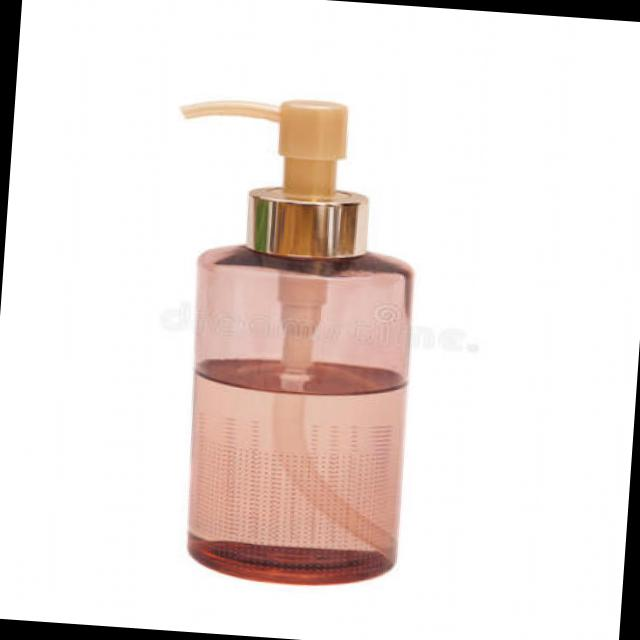sanitizer: (136, 85, 426, 591)
